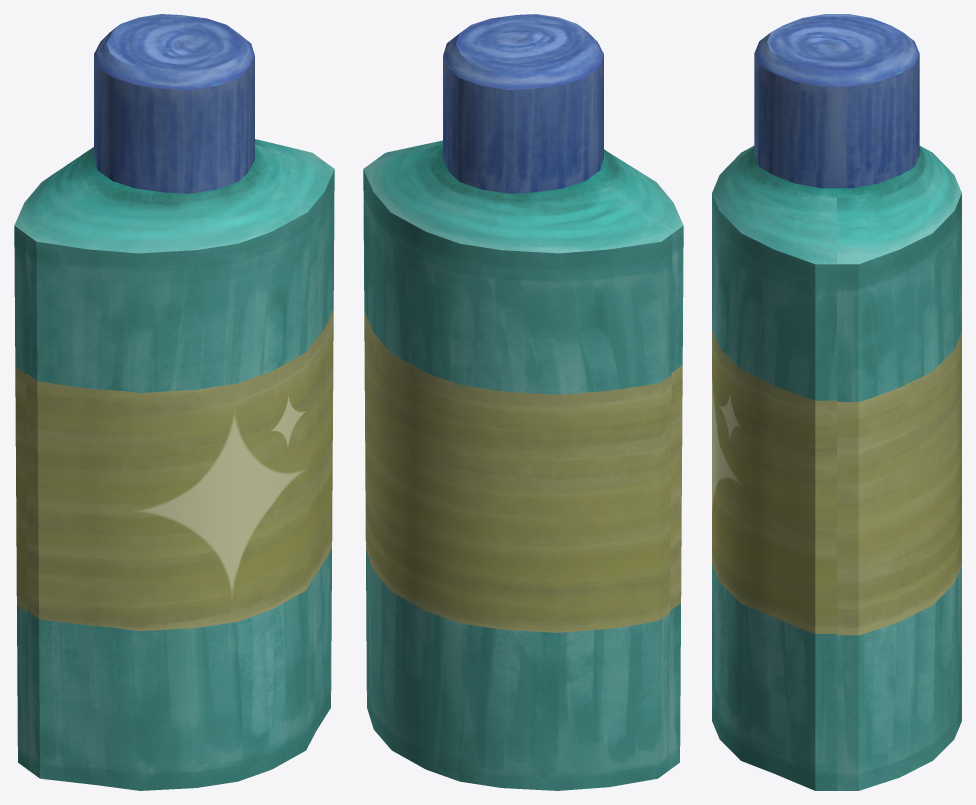
File: HandSanitizer.FBX
3 views of the same model, side by side, from view 1: azimuth 30°, elevation 25°; view 2: azimuth 150°, elevation 25°; view 3: azimuth 270°, elevation 25° (orthographic).
Parts seen in each view (by area): view 1: Cylinder001; view 2: Cylinder001; view 3: Cylinder001.
Boxes of the visible parts, bbox=[...] form: Cylinder001: bbox=[14, 14, 334, 790]; Cylinder001: bbox=[363, 14, 683, 790]; Cylinder001: bbox=[712, 14, 961, 790].
Size of the model in its own units: 31.07 by 68.85 by 22.95.
Materials: 1 (1 with a texture image).
